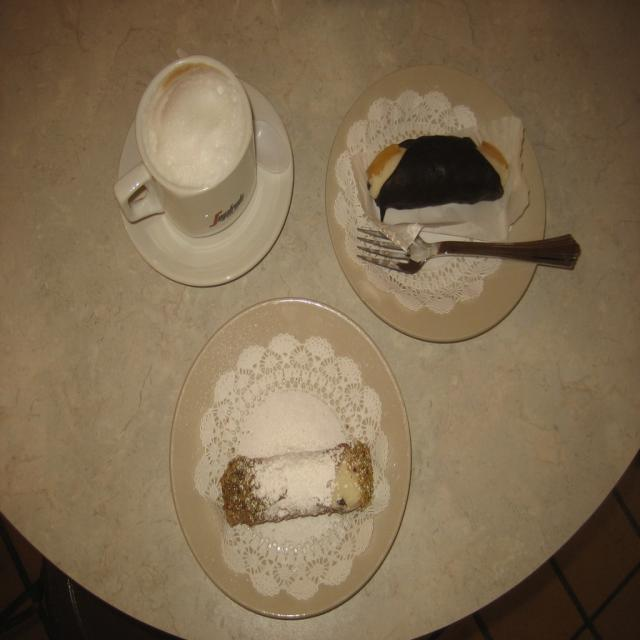non-organic waste: (141, 295, 430, 613), (334, 60, 555, 348), (95, 84, 306, 284)
